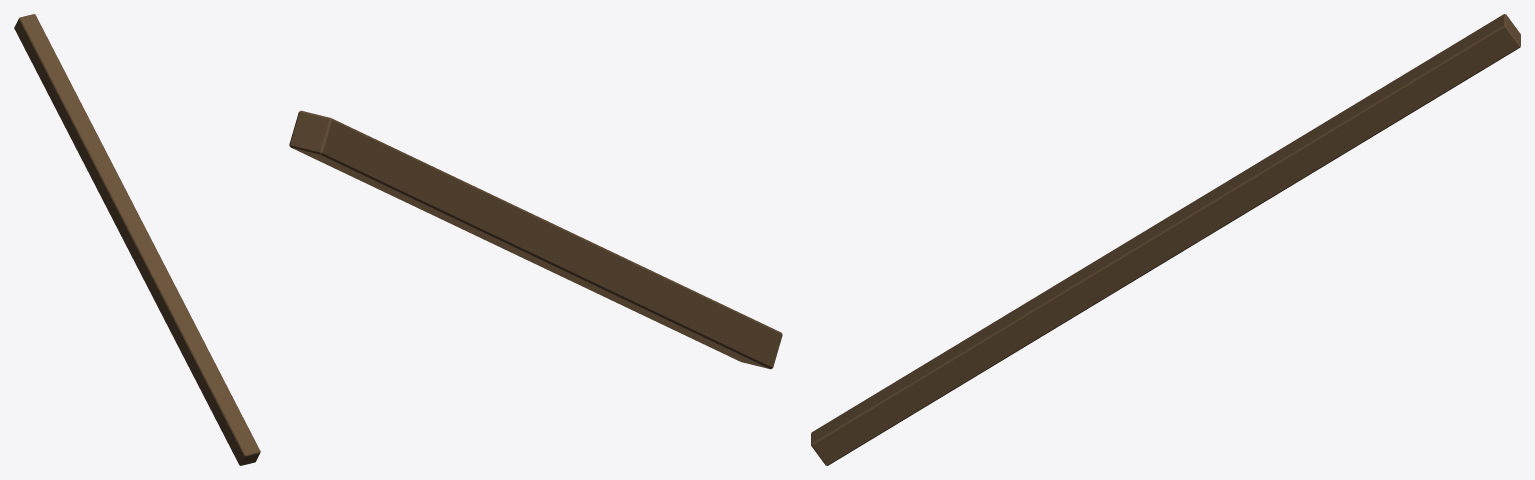
The model's file is SM_WL_GableTrimHalf3m.fbx.
3 renders of one model, left to right at view 1: azimuth 30°, elevation 25°; view 2: azimuth 150°, elevation 25°; view 3: azimuth 270°, elevation 25°, orthographic. The views are drawn at different scales.
Parts seen in each view (by area): view 1: SM_WL_GableTrimHalf3m; view 2: SM_WL_GableTrimHalf3m; view 3: SM_WL_GableTrimHalf3m.
Part boxes in pixels (x1=…): SM_WL_GableTrimHalf3m: x1=14, y1=14, x2=260, y2=465; SM_WL_GableTrimHalf3m: x1=289, y1=110, x2=782, y2=369; SM_WL_GableTrimHalf3m: x1=811, y1=14, x2=1520, y2=465.
Size of the model in its own units: 3.37 by 0.14 by 2.31.
